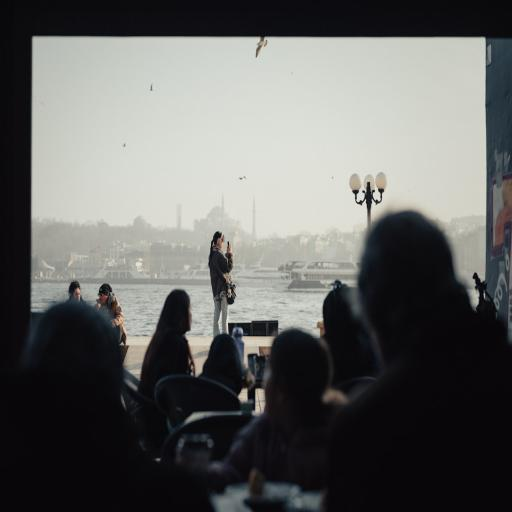face: (74, 289, 81, 303), (98, 293, 106, 304)
